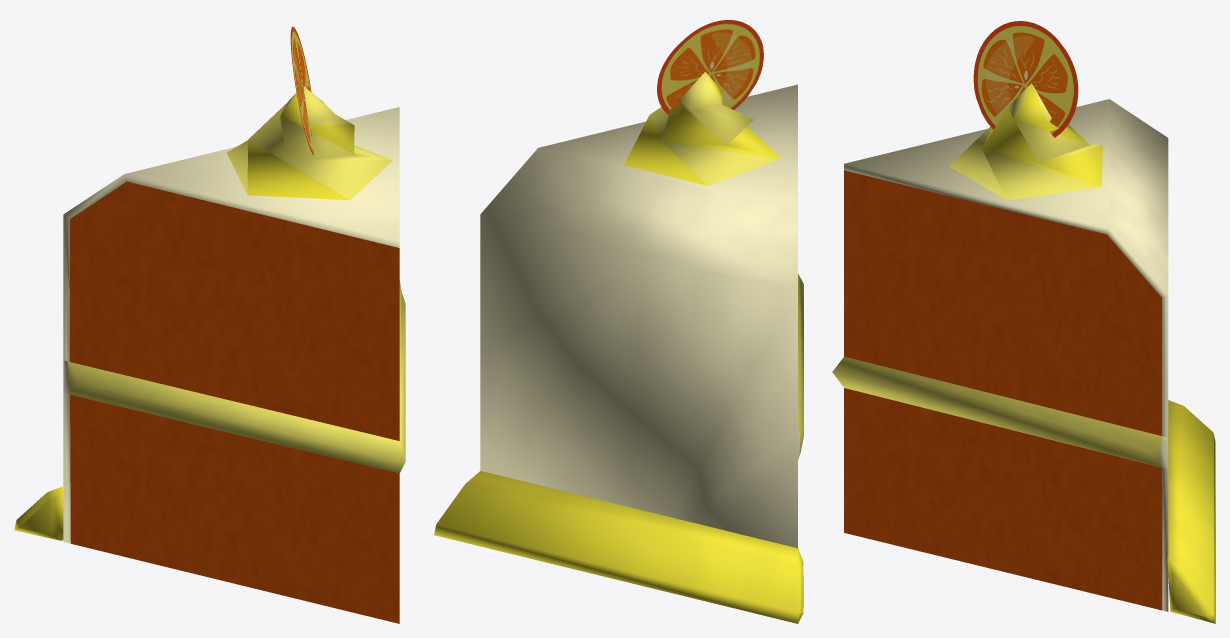
Rendered from Cake_Slice_A_4.FBX.
3 views of the same model, side by side, from view 1: azimuth 30°, elevation 25°; view 2: azimuth 150°, elevation 25°; view 3: azimuth 270°, elevation 25° (orthographic). The views are drawn at different scales.
Parts seen in each view (by area): view 1: Cake_03; view 2: Cake_03; view 3: Cake_03.
Part boxes in pixels (x1,y1,x2,y2): Cake_03: (14, 26, 405, 623); Cake_03: (434, 20, 803, 623); Cake_03: (832, 21, 1215, 623).
Size of the model in its own units: 58.57 by 76.29 by 52.35.
